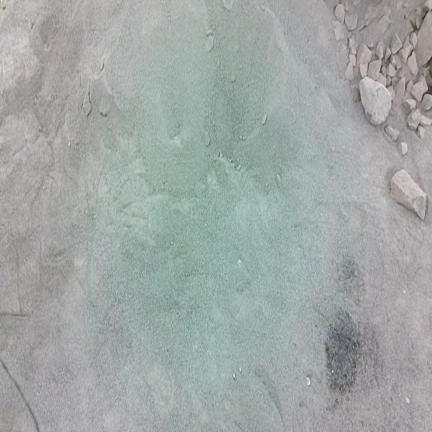Rock: (391, 170, 426, 219), (360, 77, 391, 125), (416, 11, 431, 66), (407, 109, 421, 131), (357, 44, 371, 64), (411, 81, 425, 101), (377, 15, 391, 34), (407, 52, 418, 75), (368, 60, 381, 79), (363, 6, 375, 26), (400, 43, 412, 62), (391, 34, 402, 54), (385, 126, 399, 141), (345, 14, 357, 30), (421, 94, 432, 111), (334, 22, 344, 40), (335, 4, 344, 23), (345, 62, 354, 81), (395, 78, 405, 95), (376, 41, 384, 59), (403, 99, 416, 110), (410, 32, 417, 49), (206, 35, 213, 52), (377, 73, 386, 86), (222, 0, 233, 10), (387, 65, 396, 76), (420, 116, 431, 125), (400, 142, 407, 155), (360, 64, 367, 77), (418, 126, 425, 139), (385, 47, 391, 61), (262, 113, 268, 125), (407, 81, 413, 93), (387, 76, 391, 86), (206, 30, 212, 36)
